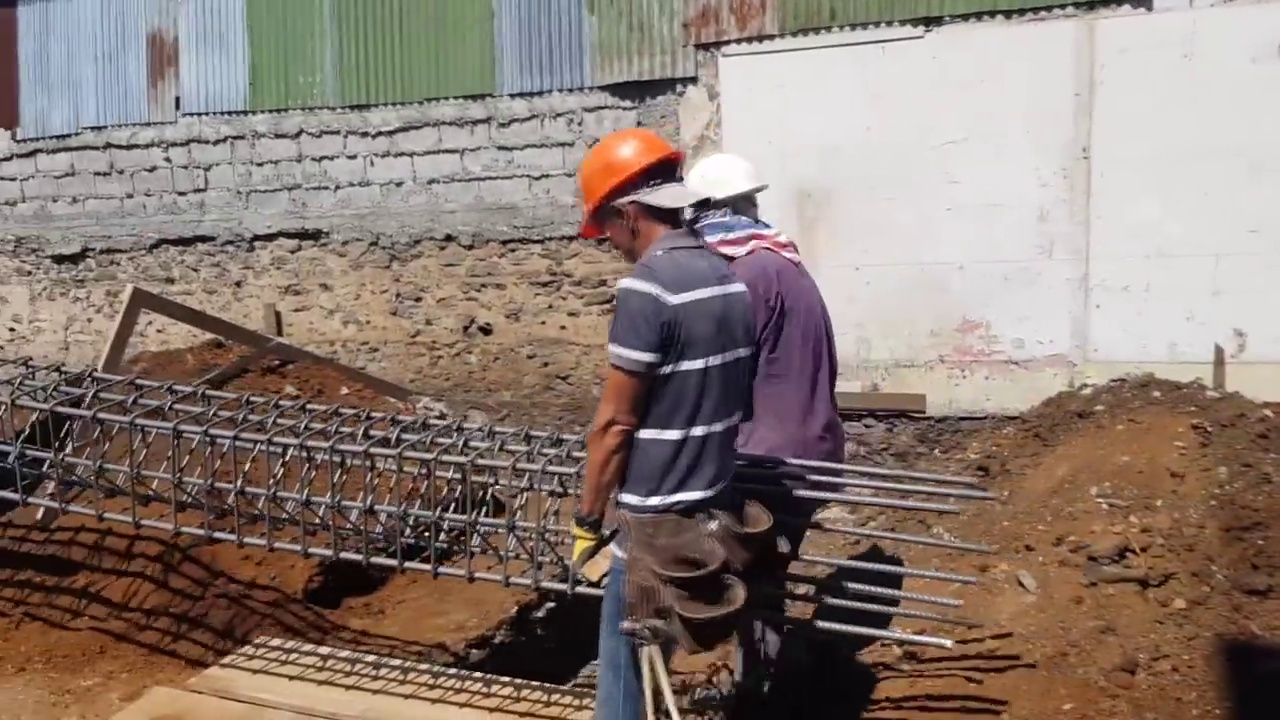helmet: (582, 129, 680, 238), (678, 150, 773, 220)
helmet-on: (573, 123, 686, 266), (678, 150, 771, 254)
person: (559, 146, 812, 719), (673, 143, 843, 696)
